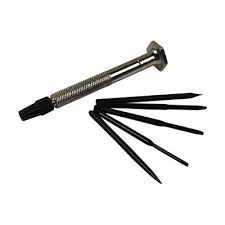Screwdriver: (12, 33, 215, 186)
